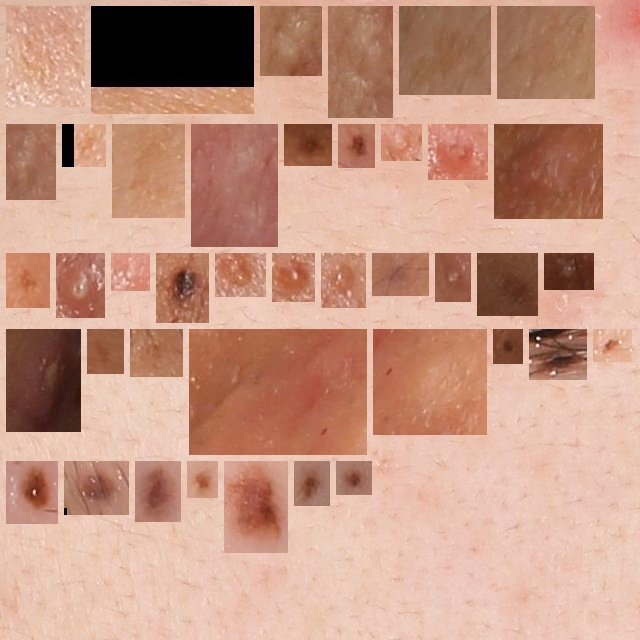hypertrophic_scar: (197, 337, 359, 447), (381, 337, 479, 427), (199, 132, 270, 239), (502, 132, 595, 211), (336, 14, 385, 110), (268, 14, 314, 68), (14, 132, 48, 192)
melasma: (99, 14, 246, 106), (505, 14, 587, 91), (407, 14, 483, 87), (14, 14, 77, 99), (120, 132, 177, 210), (138, 337, 175, 369), (70, 132, 98, 159), (95, 337, 116, 366)
nevus: (232, 469, 280, 545), (485, 261, 530, 308), (164, 261, 201, 315), (72, 469, 121, 507), (14, 469, 50, 516), (537, 337, 579, 372), (143, 469, 173, 514), (380, 261, 421, 288), (14, 261, 42, 300), (292, 132, 324, 158), (346, 132, 367, 160), (302, 469, 322, 498), (601, 337, 624, 354), (344, 469, 364, 487), (195, 469, 210, 490), (501, 337, 515, 356)
pustule: (14, 337, 73, 424), (436, 132, 480, 172), (64, 261, 97, 310), (329, 261, 358, 300), (223, 261, 258, 289), (280, 261, 307, 294), (552, 261, 586, 282), (443, 261, 463, 294), (389, 132, 414, 153), (119, 261, 142, 283)
